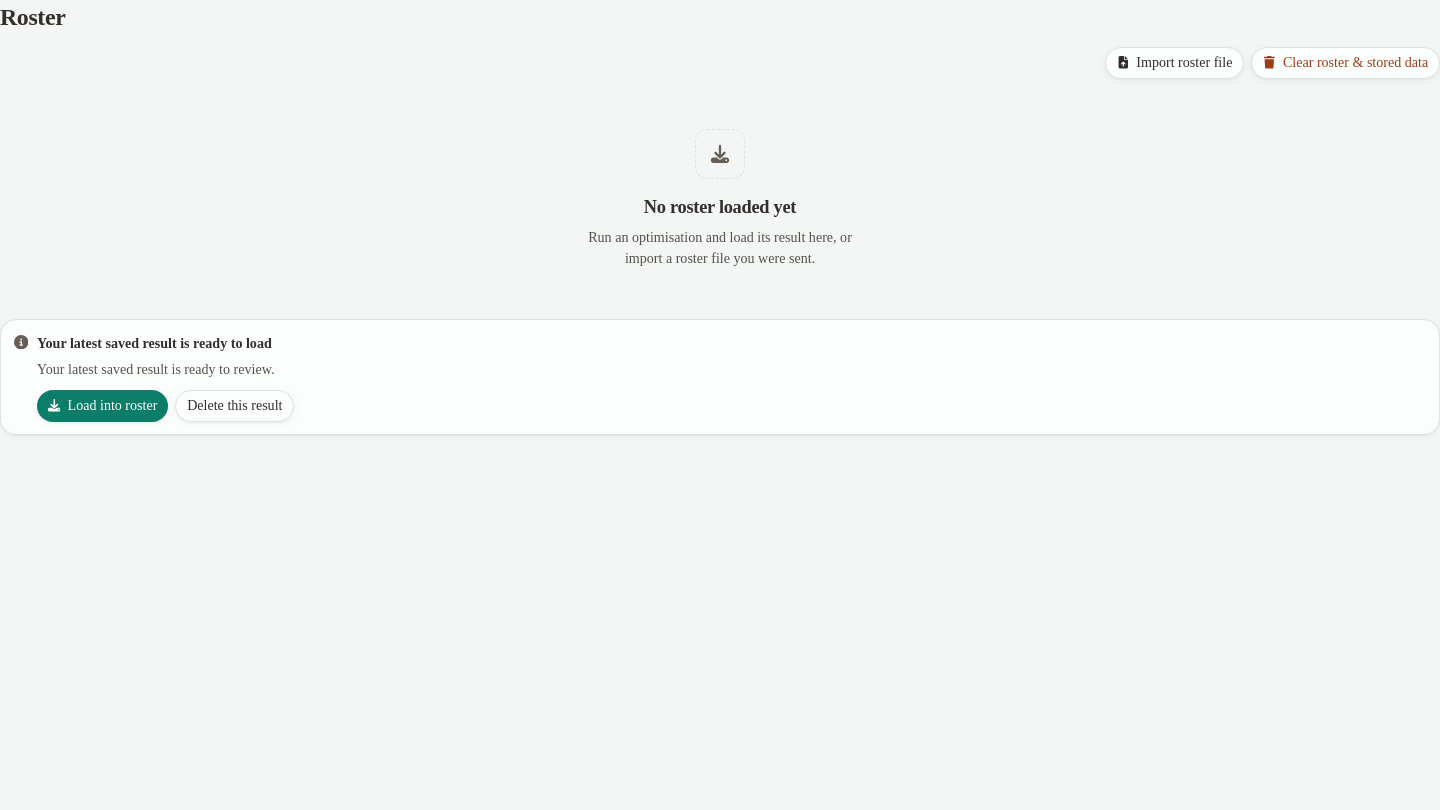
RosterSection — keyed dismissal › asks first: Delete this result does nothing until confirmed
The width and height of the screenshot is (1440, 810).
Click the button with test id "roster-candidate-dismiss": x=235, y=406 left=175, top=390, right=294, bottom=422
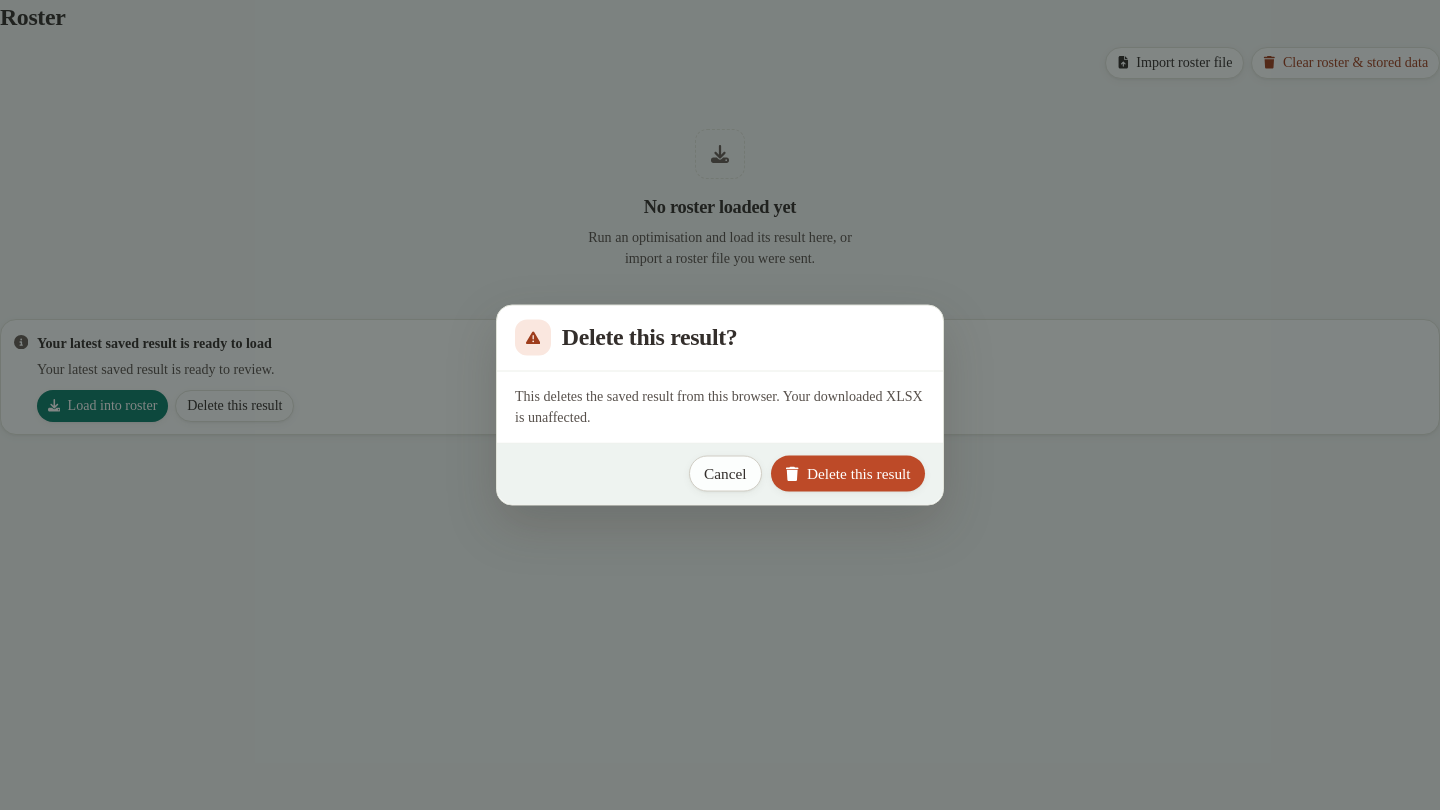
Check: the dialog with test id "confirm-dialog" is shown, box left=496, top=304, right=944, bottom=506
Check: the dialog with test id "confirm-dialog" shows "downloaded XLSX is unaffected", box left=515, top=388, right=923, bottom=425
Click the button with test id "confirm-dialog-cancel": x=725, y=474 left=689, top=456, right=762, bottom=492
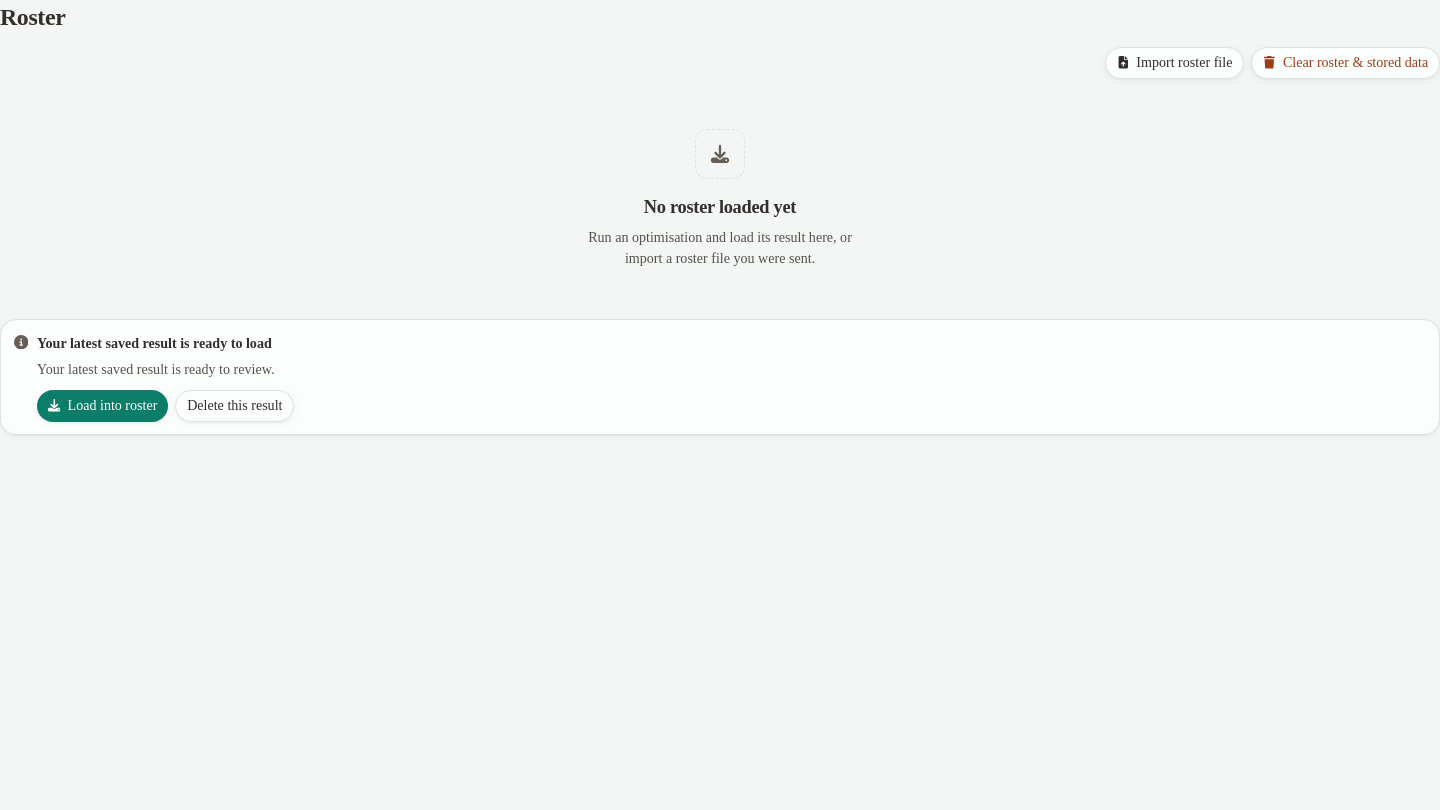
Check: the dialog with test id "confirm-dialog" is gone
